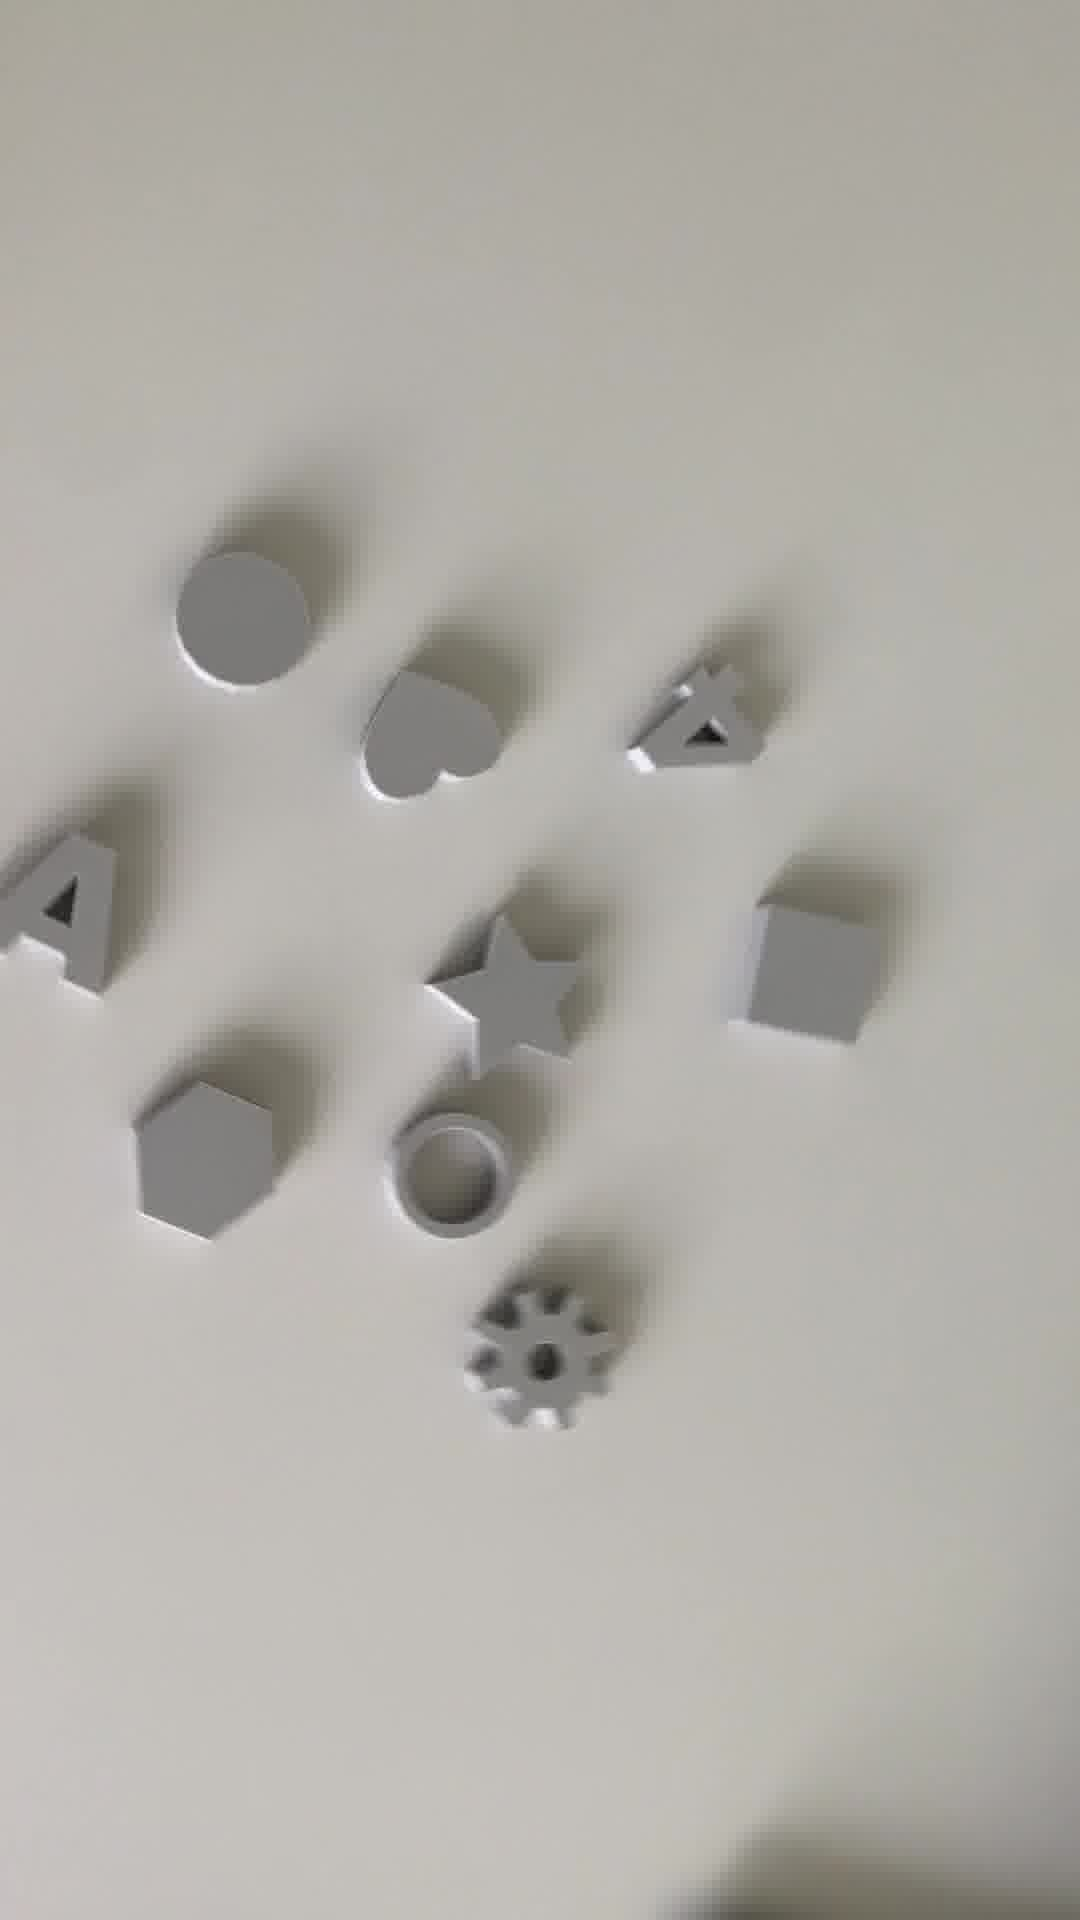Gray A-letter: (1, 824, 128, 1004)
Gray circle: (173, 542, 314, 691)
Gray four: (628, 654, 761, 787)
Gray gear: (467, 1279, 622, 1443)
Gray heart: (357, 667, 510, 803)
Gray hexagon: (120, 1085, 291, 1244)
Gray ring: (377, 1108, 522, 1246)
Gray square: (723, 899, 890, 1075)
Gray star: (431, 909, 592, 1081)
